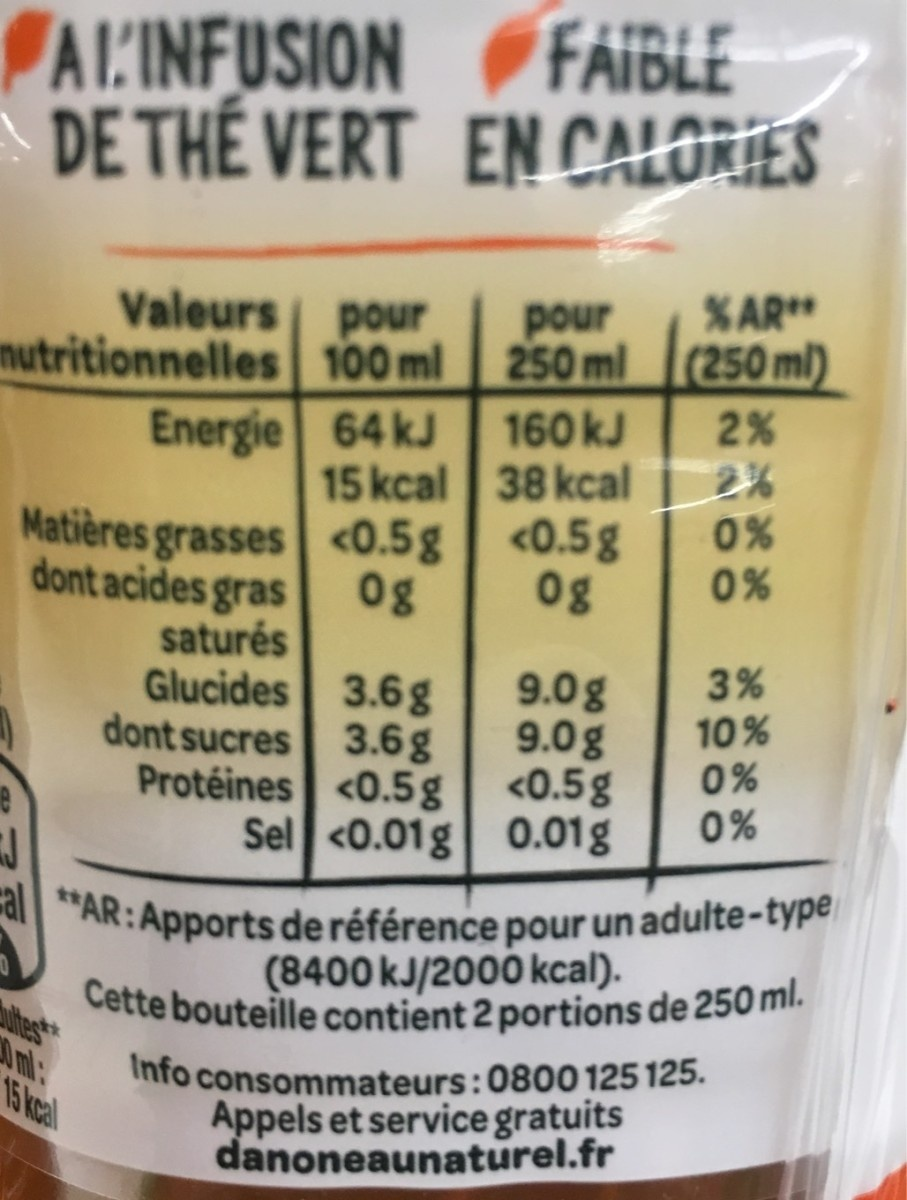column: (17, 292, 281, 883), (683, 297, 828, 852), (319, 295, 454, 866), (499, 299, 630, 859)
table: (1, 295, 855, 884)
